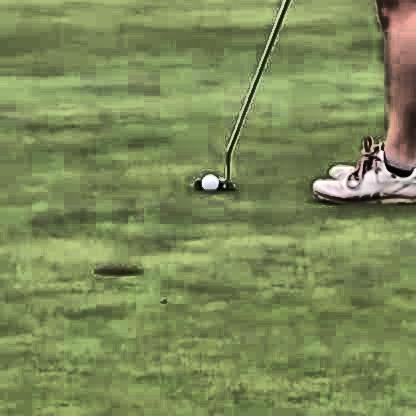golfball: (197, 169, 216, 188)
